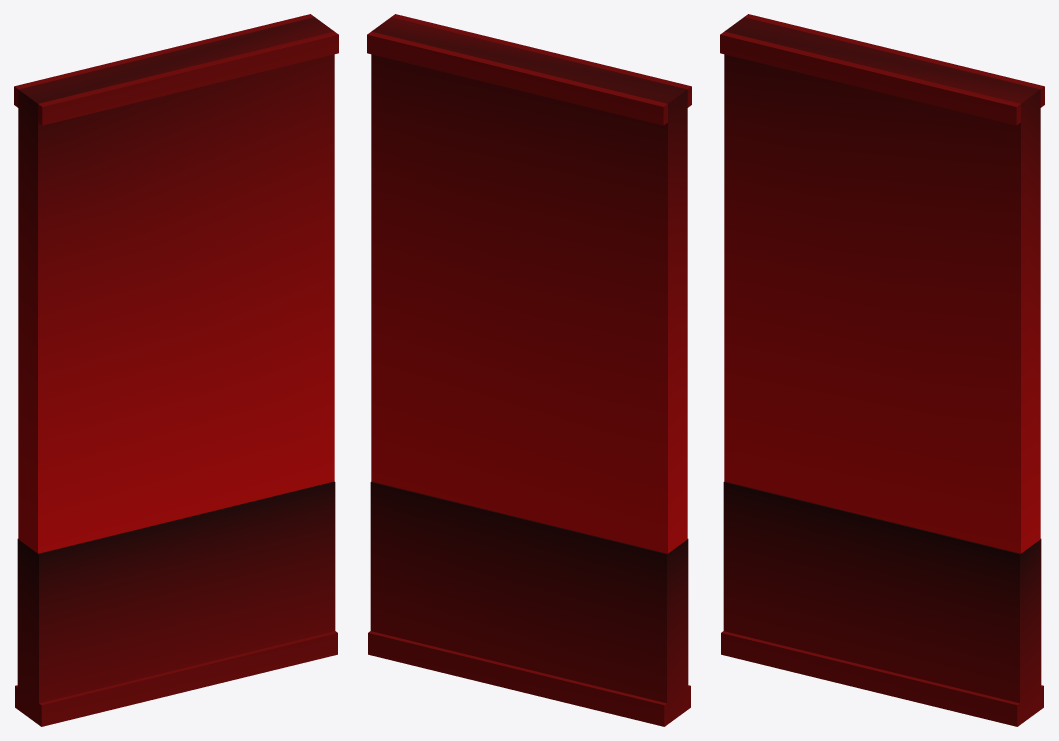
File: wall_2m.glb
The picture shows the model from 3 angles, left to right: view 1: azimuth 30°, elevation 25°; view 2: azimuth 150°, elevation 25°; view 3: azimuth 330°, elevation 25°; orthographic projection.
Parts seen in each view (by area): view 1: wall_2m; view 2: wall_2m; view 3: wall_2m.
Boxes of the visible parts, box(x1,y1,x2,y2) form: wall_2m: box(14, 14, 338, 726); wall_2m: box(367, 14, 691, 726); wall_2m: box(720, 14, 1044, 726).
Size of what is drawn, in the model's own units: 2 by 4 by 0.33.
